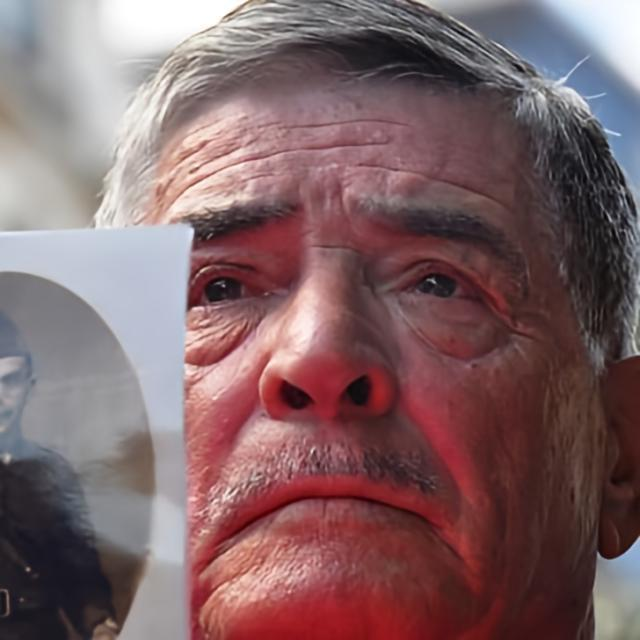sad: (189, 73, 603, 640)
